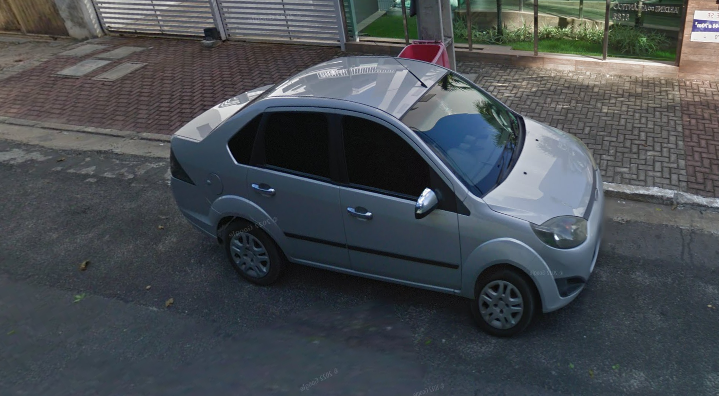car: (166, 40, 610, 337)
